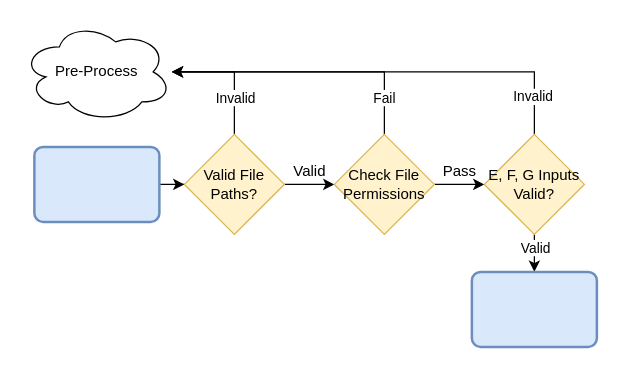
Some shapes in this 620 by 370 pixel diagram are drawn without their labels. Each missing label, with the box of its shape:
Begin Parsing Input message: (470, 270, 598, 348)
Process Button Clicked: (32, 145, 160, 222)
